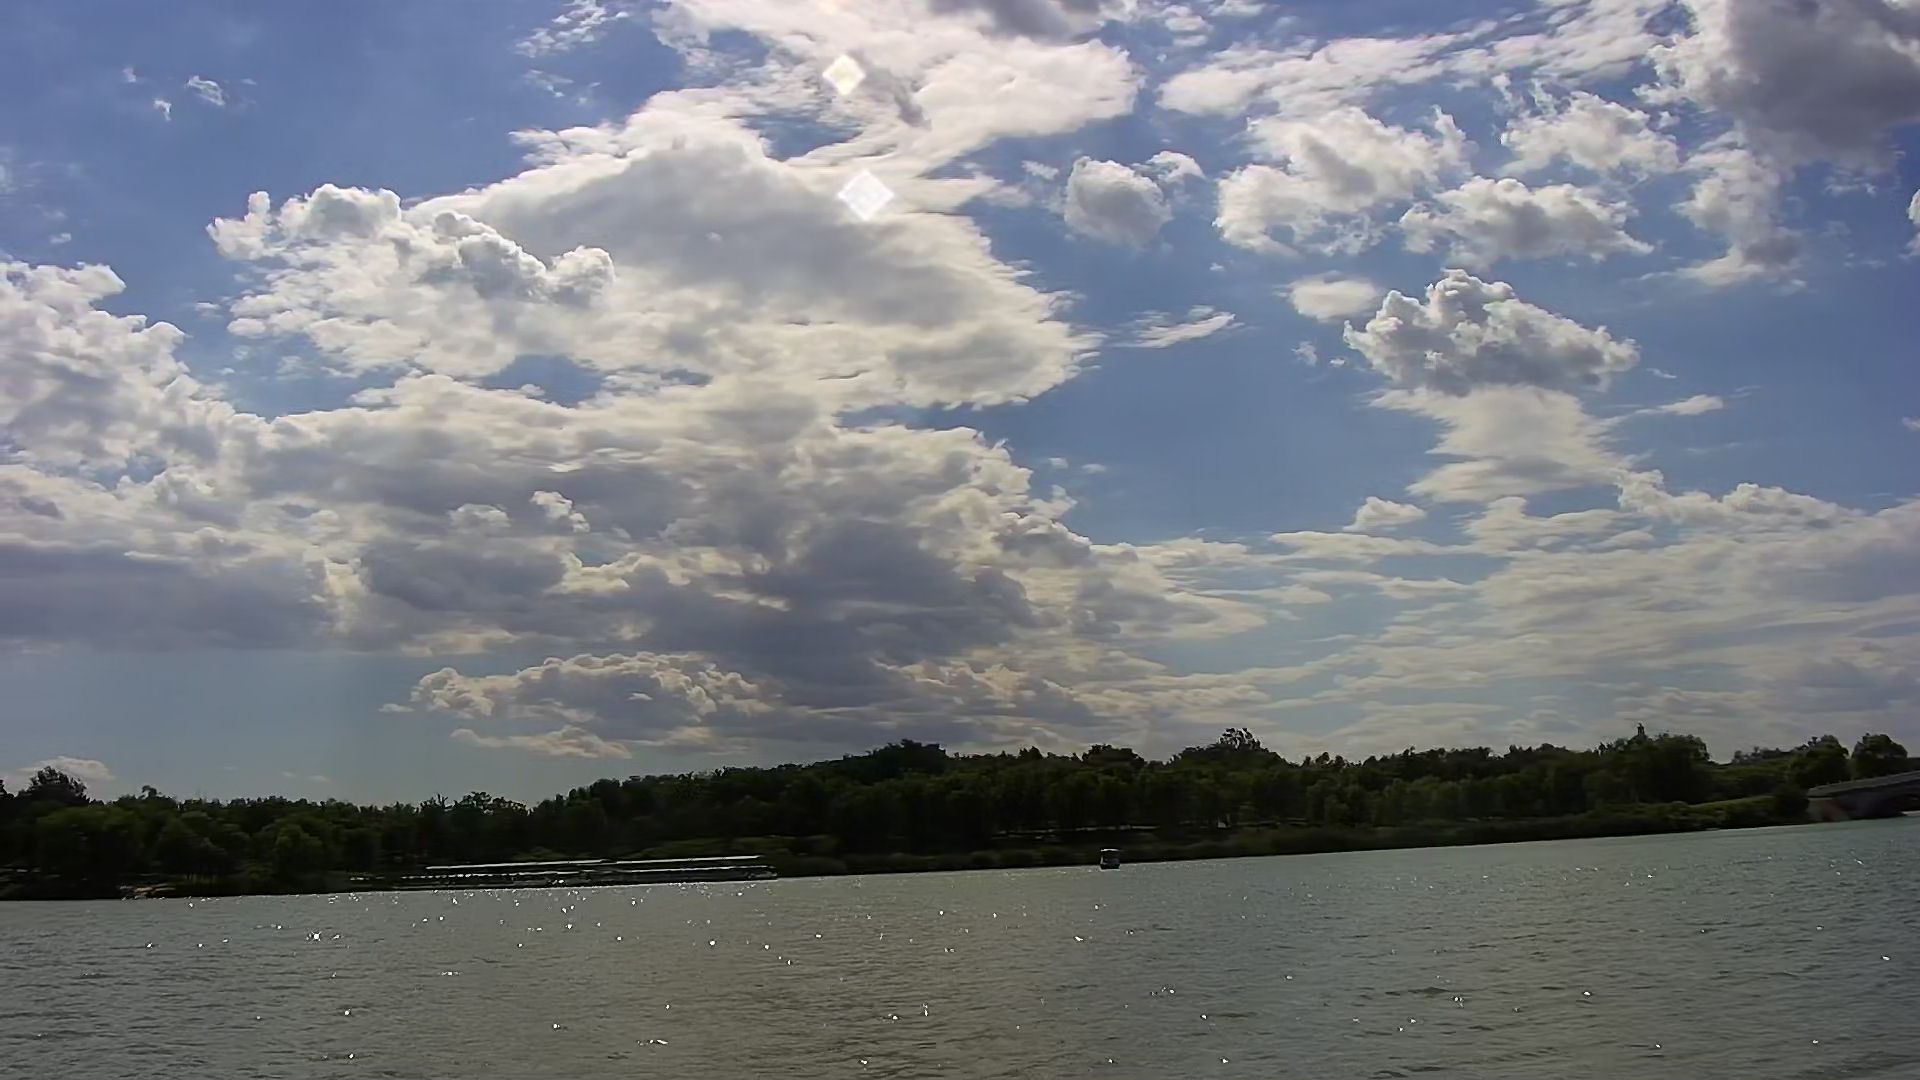boat: (1092, 844, 1124, 873)
bridge: (1804, 764, 1920, 823)
harbor: (407, 849, 777, 885)
